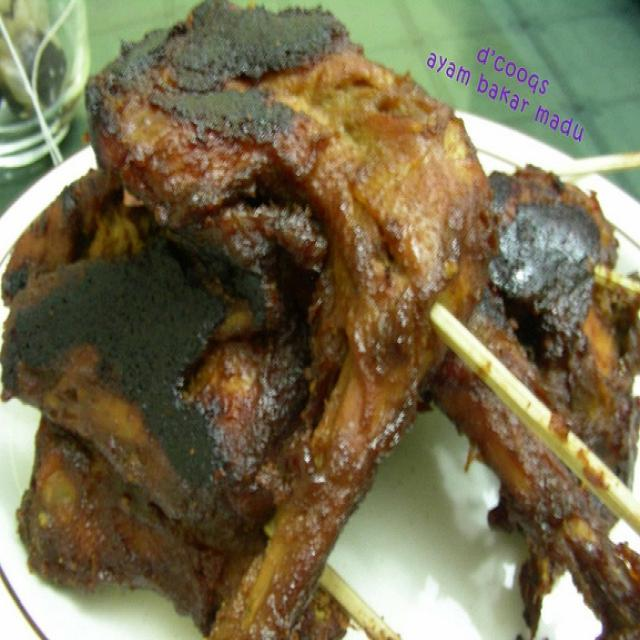鸡肉料理 含炸鸡: (8, 10, 613, 631)
